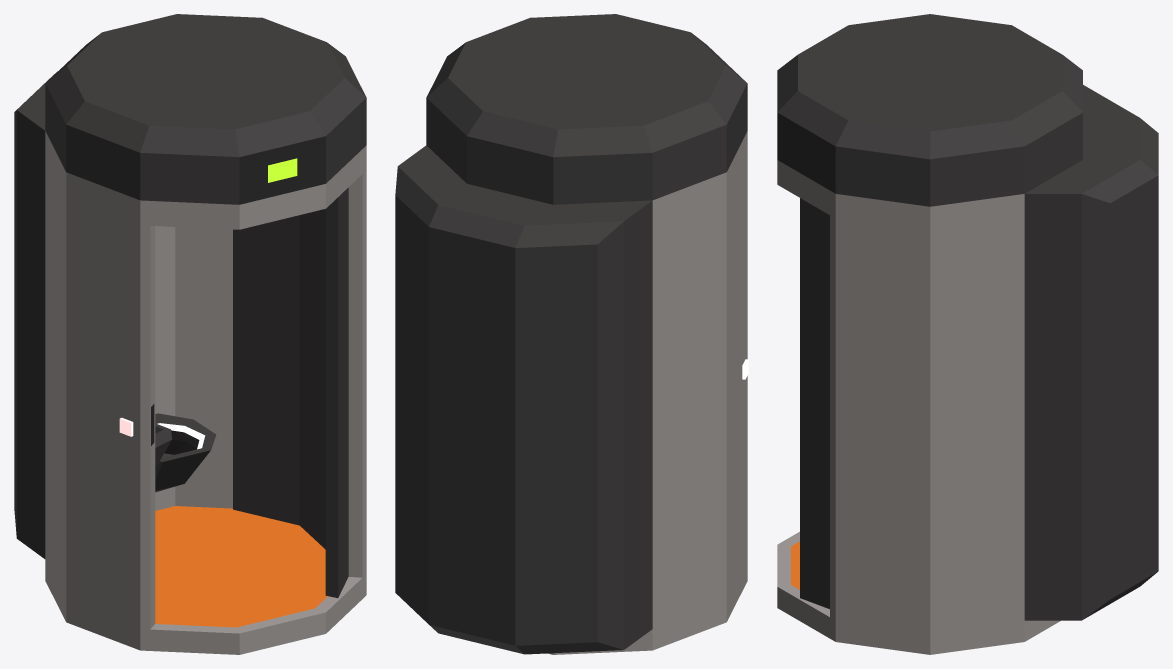
Rendered from scifi_scifi-toilet-open.fbx.
3 views of the same model, side by side, from view 1: azimuth 30°, elevation 25°; view 2: azimuth 150°, elevation 25°; view 3: azimuth 270°, elevation 25° (orthographic).
Visible parts, largest first — view 1: scifi_scifi_toilet_open; view 2: scifi_scifi_toilet_open; view 3: scifi_scifi_toilet_open.
Part boxes in pixels (bbox=[...]): scifi_scifi_toilet_open: bbox=[14, 14, 366, 654]; scifi_scifi_toilet_open: bbox=[395, 14, 748, 654]; scifi_scifi_toilet_open: bbox=[777, 14, 1158, 654].
Bounding box in the file's own units: 113 × 200 × 134.
